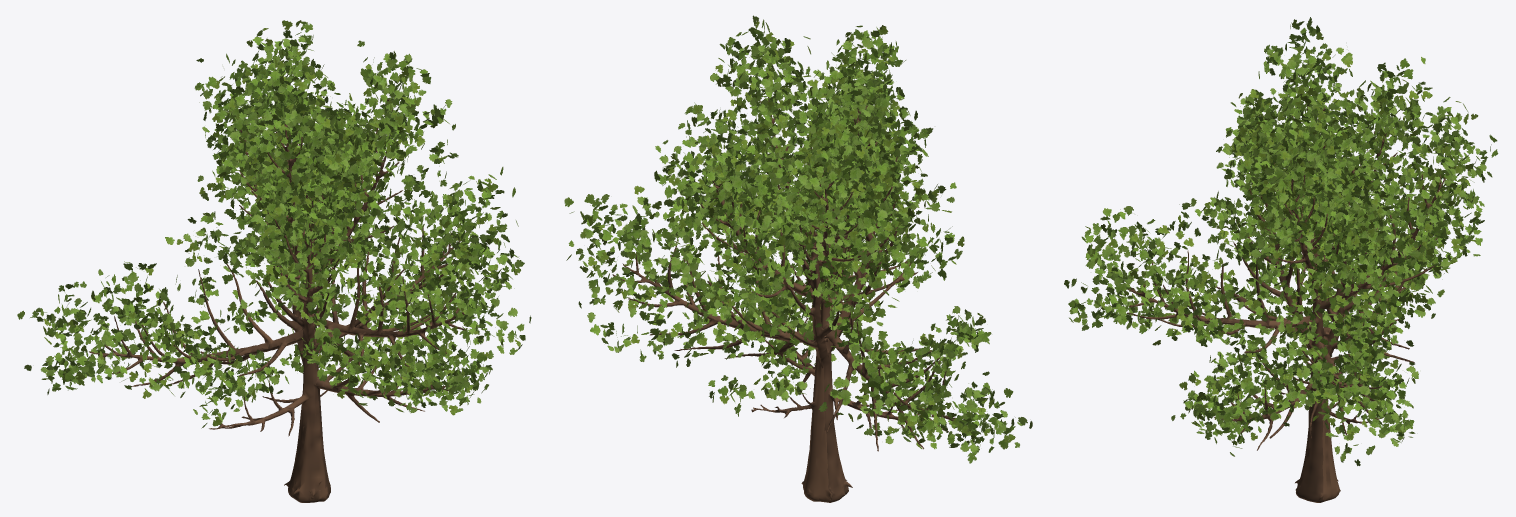
Rendered from oak_sapling_v010.glb.
3 views of the same model, side by side, from view 1: azimuth 30°, elevation 25°; view 2: azimuth 150°, elevation 25°; view 3: azimuth 270°, elevation 25° (orthographic). The views are drawn at different scales.
Parts seen in each view (by area): view 1: Oak foliage cards, Oak_Sapling_Fused_Bark_V010; view 2: Oak foliage cards, Oak_Sapling_Fused_Bark_V010; view 3: Oak foliage cards, Oak_Sapling_Fused_Bark_V010.
Part boxes in pixels (x1=…): Oak foliage cards: x1=17, y1=20, x2=531, y2=428; Oak_Sapling_Fused_Bark_V010: x1=89, y1=99, x2=466, y2=502; Oak foliage cards: x1=564, y1=15, x2=1032, y2=463; Oak_Sapling_Fused_Bark_V010: x1=612, y1=68, x2=954, y2=502; Oak foliage cards: x1=1064, y1=17, x2=1498, y2=465; Oak_Sapling_Fused_Bark_V010: x1=1127, y1=105, x2=1445, y2=502.
Size of the model in its own units: 14.26 by 13.38 by 11.62.
Materials: 2 (2 with a texture image).
